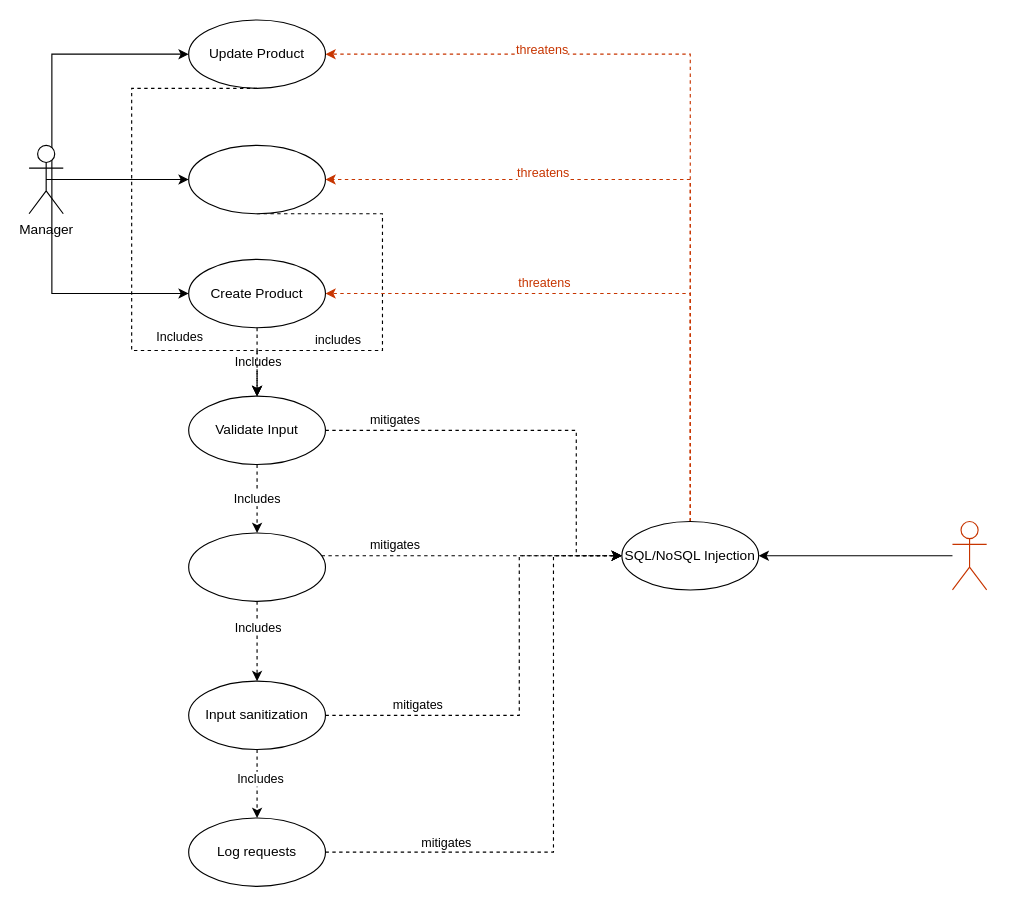
The diagram is 1034 pixels wide and 906 high, and some of its shapes have lost their labels. The box of each missing label's shape, as (x1, y1, x2, y2) in pixels:
Malicious User: (951, 520, 987, 590)
Parameterized queries: (188, 532, 325, 601)
Search Product by name: (188, 144, 325, 214)
